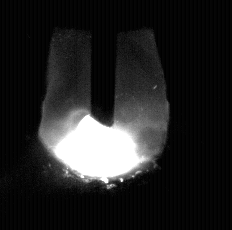arame: (91, 0, 116, 127)
poca: (37, 0, 168, 230)
